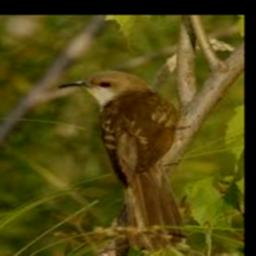Cuckoo: (59, 70, 190, 252)
